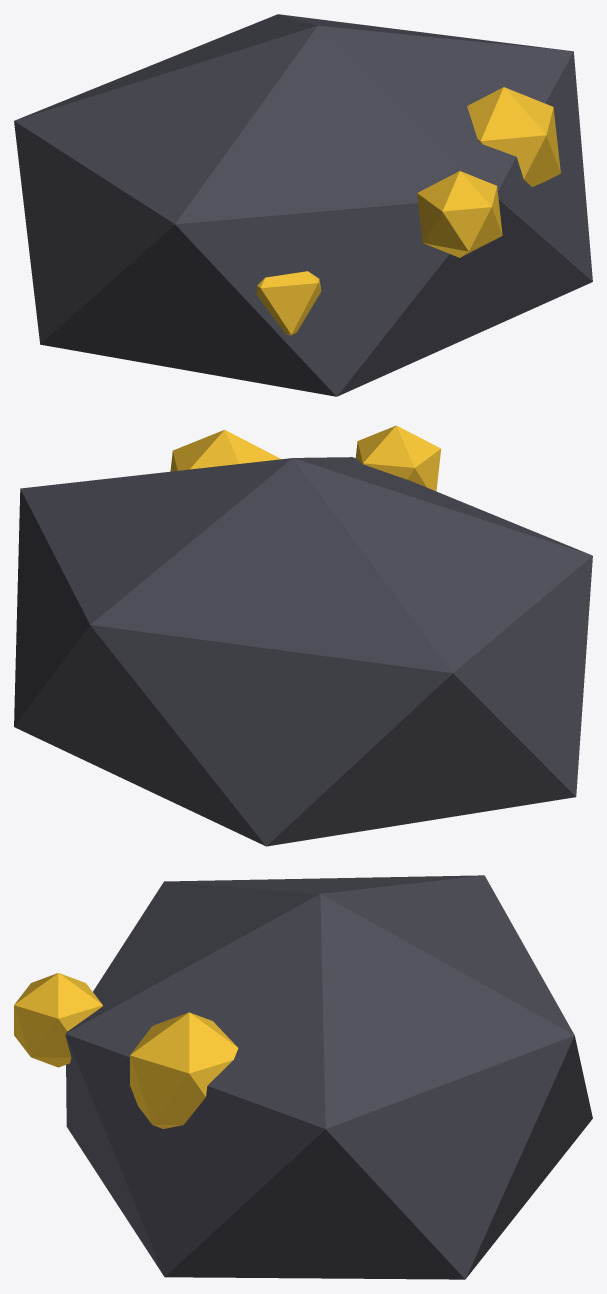
Rendered from gold_ore.glb.
The picture shows the model from 3 angles, top to bottom: view 1: azimuth 30°, elevation 25°; view 2: azimuth 150°, elevation 25°; view 3: azimuth 270°, elevation 25°; orthographic projection. The views are drawn at different scales.
Visible parts, largest first — view 1: gold_ore; view 2: gold_ore; view 3: gold_ore.
Part boxes in pixels (x1,y1,x2,y2): gold_ore: (14, 14, 592, 396); gold_ore: (14, 425, 592, 846); gold_ore: (14, 875, 592, 1279).
Size of the model in its own units: 0.7675 by 0.484 by 0.6644.
